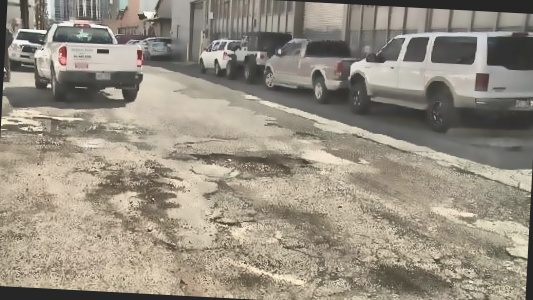pothole: (191, 148, 290, 175), (285, 154, 314, 170), (28, 111, 63, 123)
